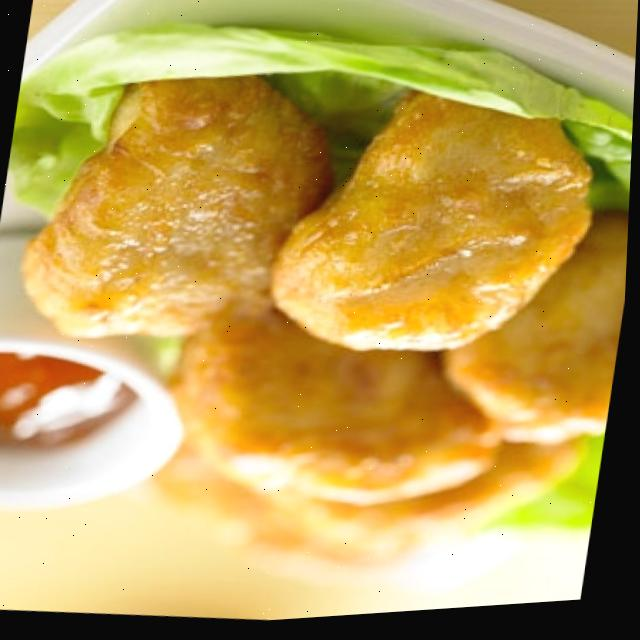鸡肉料理 含炸鸡: (0, 0, 639, 614)
